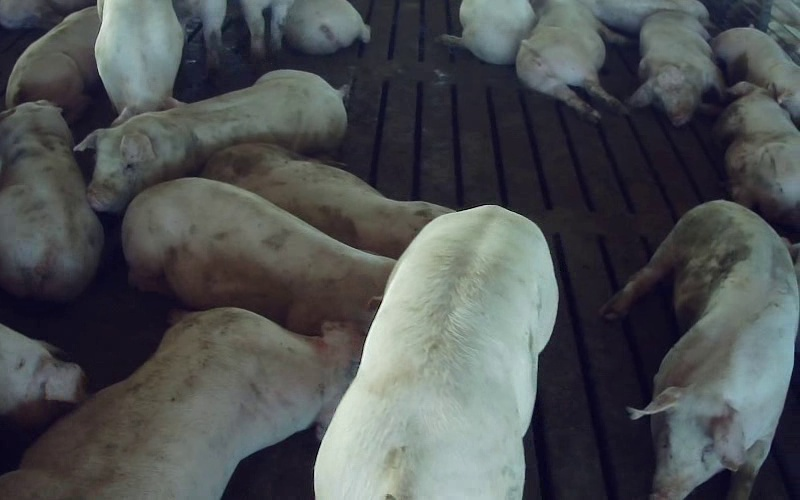pig: (314, 206, 557, 499), (0, 308, 363, 499), (601, 201, 797, 499), (122, 178, 394, 333), (75, 70, 346, 211), (201, 144, 451, 258), (516, 0, 626, 121), (713, 82, 799, 230), (628, 11, 724, 126), (6, 7, 100, 123), (95, 0, 183, 123), (711, 28, 799, 125), (438, 0, 535, 63)
